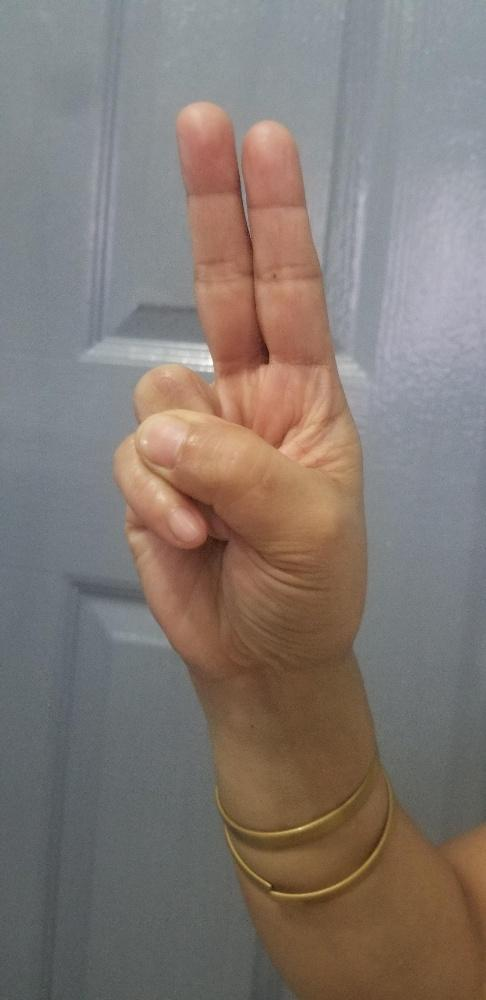u: (110, 96, 367, 659)
